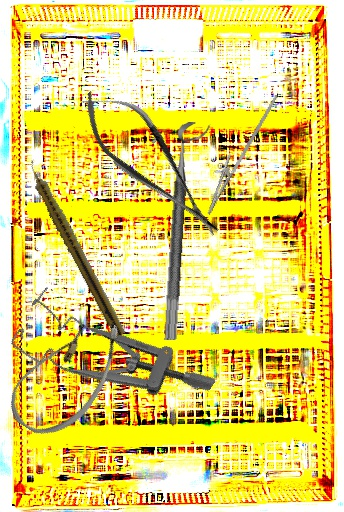Cannula: (0, 297, 134, 451)
Fixation Ring: (162, 121, 211, 342)
Handpiece: (22, 156, 130, 339)
Micro Scissor: (67, 72, 236, 255)
Needle Holder: (197, 84, 279, 222)
Speculum: (6, 270, 218, 451)
